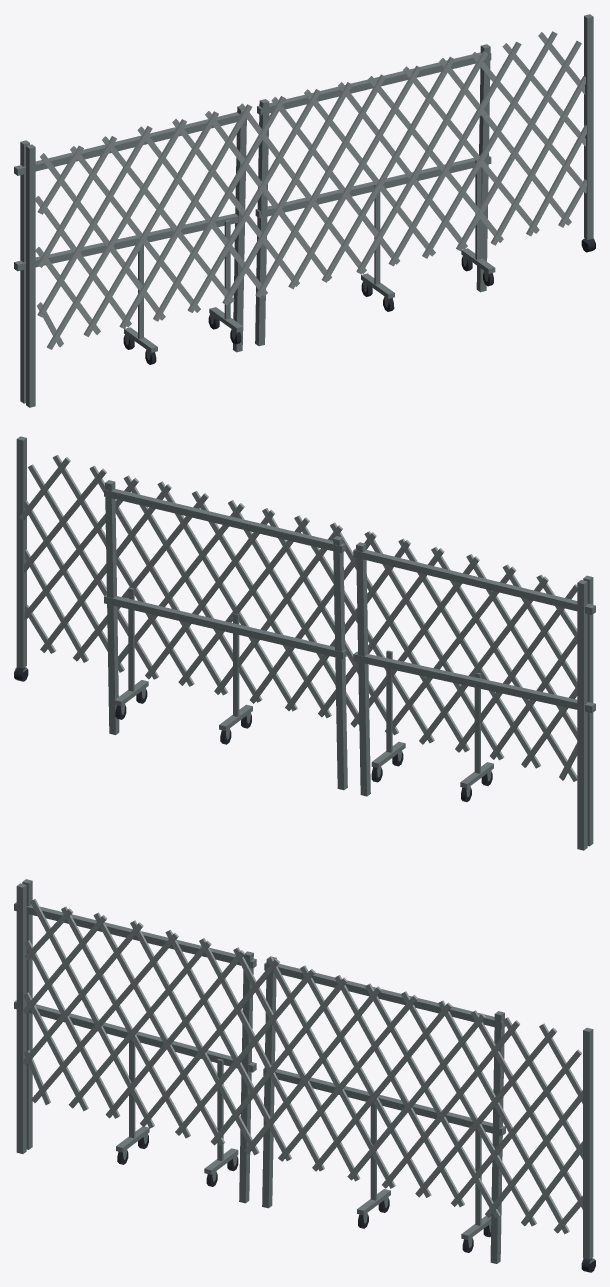
File: Preset_AlumiGate.fbx
3 views of the same model, one above another, from view 1: azimuth 30°, elevation 25°; view 2: azimuth 150°, elevation 25°; view 3: azimuth 330°, elevation 25° (orthographic). The views are drawn at different scales.
Visible parts, largest first — view 1: Fence, Frame, FrameV2, FrameV1, FrameV4, FrameV5, FrameV3, FrameV6, Tire, FrameV9, FrameV8; view 2: Fence, Frame, FrameV6, FrameV4, FrameV5, FrameV3, FrameV1, FrameV2, Tire, FrameV8, FrameV9, FrameV11 (+1 smaller); view 3: Fence, Frame, FrameV2, FrameV1, FrameV4, FrameV3, FrameV5, FrameV6, Tire, FrameV9.
Part boxes in pixels (bbox=[...]): Fence: bbox=[35, 31, 586, 349]; Frame: bbox=[14, 52, 495, 352]; FrameV2: bbox=[26, 144, 35, 407]; FrameV1: bbox=[584, 14, 593, 239]; FrameV4: bbox=[255, 99, 269, 346]; FrameV5: bbox=[232, 106, 246, 352]; FrameV3: bbox=[476, 44, 490, 292]; FrameV6: bbox=[20, 140, 29, 403]; Tire: bbox=[123, 238, 595, 364]; FrameV9: bbox=[374, 184, 380, 284]; FrameV8: bbox=[475, 160, 481, 259]; Fence: bbox=[19, 455, 577, 781]; Frame: bbox=[104, 489, 595, 788]; FrameV6: bbox=[577, 580, 587, 850]; FrameV4: bbox=[333, 536, 347, 790]; FrameV5: bbox=[356, 542, 370, 796]; FrameV3: bbox=[105, 480, 119, 735]; FrameV1: bbox=[16, 436, 26, 668]; FrameV2: bbox=[583, 575, 593, 846]; Tire: bbox=[14, 667, 492, 801]; FrameV8: bbox=[128, 587, 134, 691]; FrameV9: bbox=[233, 613, 239, 716]; FrameV11: bbox=[386, 650, 392, 752]; Fence: bbox=[22, 899, 582, 1234]; Frame: bbox=[14, 902, 505, 1240]; FrameV2: bbox=[16, 883, 26, 1153]; FrameV1: bbox=[583, 1027, 593, 1259]; FrameV4: bbox=[262, 956, 276, 1208]; FrameV3: bbox=[490, 1011, 504, 1263]; FrameV5: bbox=[239, 951, 253, 1203]; FrameV6: bbox=[22, 879, 32, 1149]; Tire: bbox=[117, 1134, 595, 1272]; FrameV9: bbox=[370, 1102, 376, 1200].
Size of the model in its own units: 501 by 46.38 by 218.
3 materials, 3 textured.
